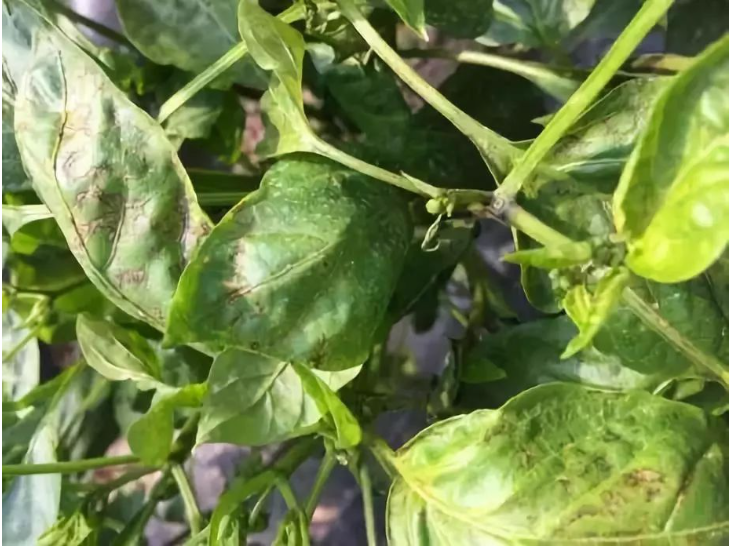thrips: (16, 30, 213, 324), (190, 149, 408, 363), (485, 381, 733, 546)
